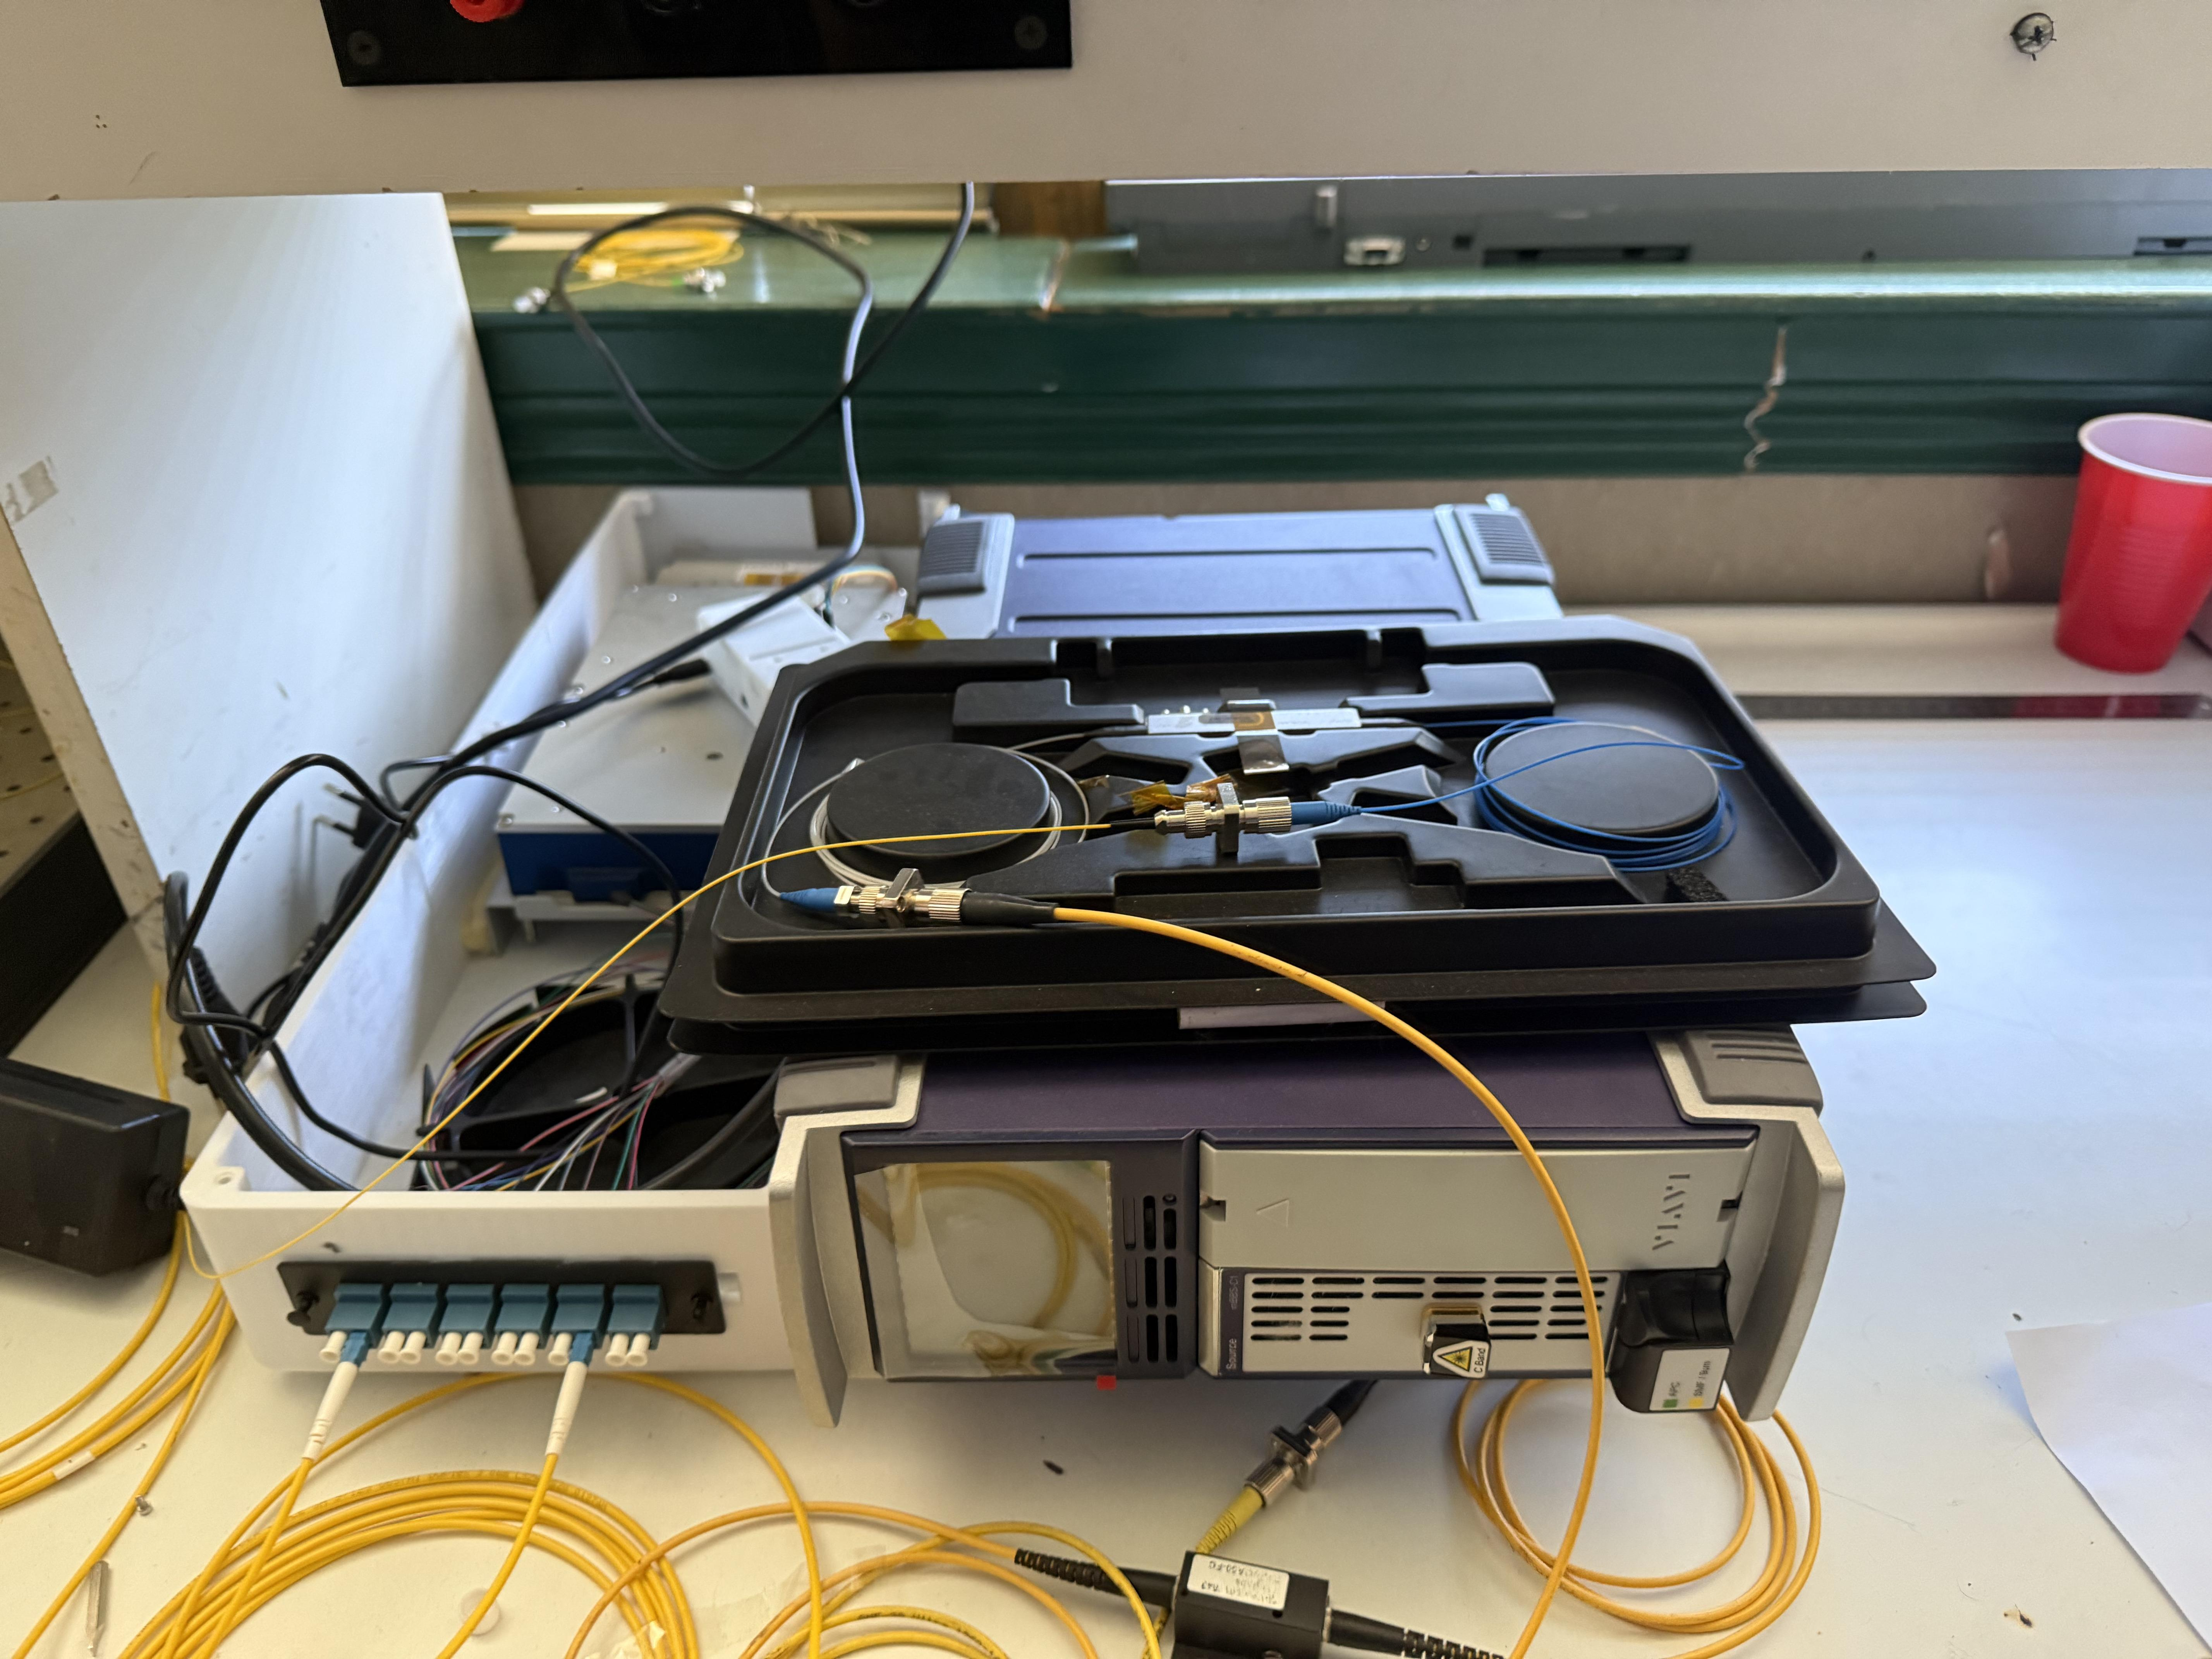laser: (761, 483, 1867, 1439)
